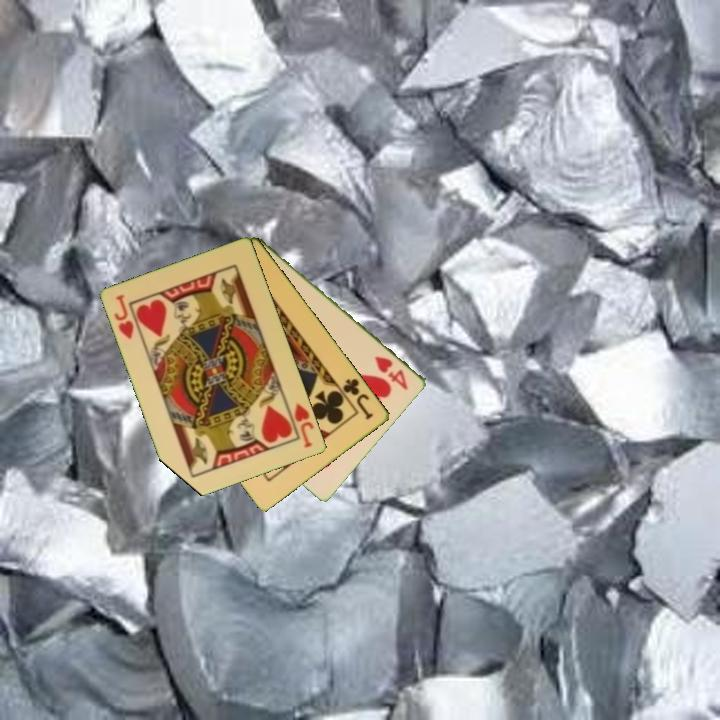4h: (372, 352, 411, 393)
Jc: (340, 375, 377, 423)
Jh: (291, 399, 317, 451), (111, 291, 137, 342)
